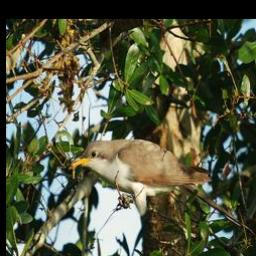Cuckoo: (68, 135, 214, 234)
